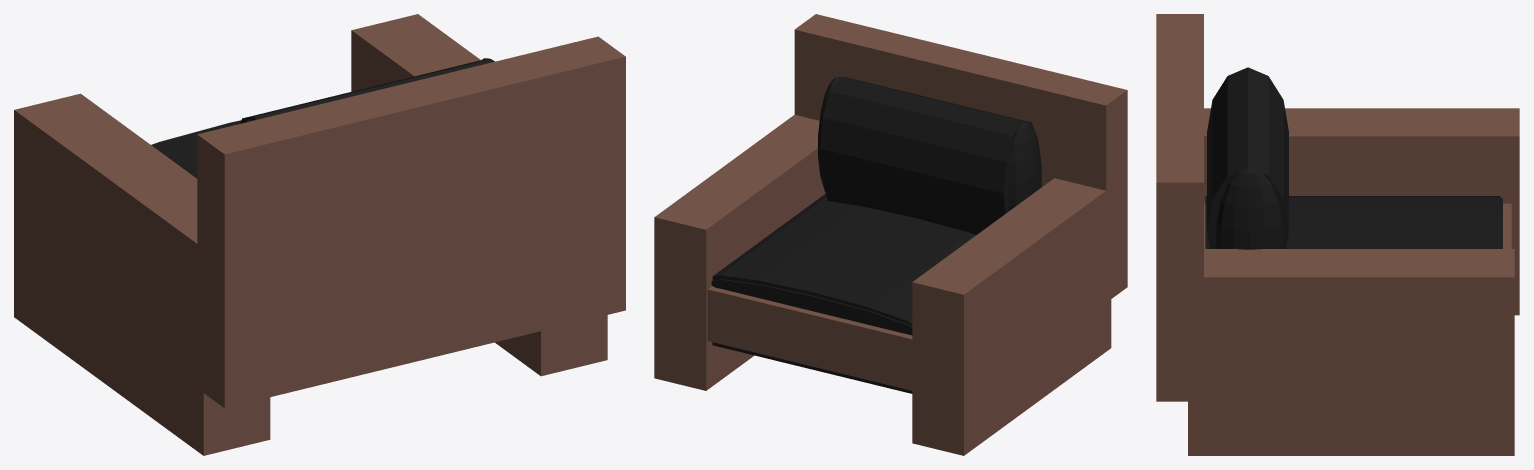
The model's file is fauteuill1.fbx.
3 views of the same model, side by side, from view 1: azimuth 30°, elevation 25°; view 2: azimuth 150°, elevation 25°; view 3: azimuth 270°, elevation 25° (orthographic). The views are drawn at different scales.
Visible parts, largest first — view 1: mesh_1178843567, mesh_1577455044, mesh_798018480, mesh_2075665351, mesh_1064078143; view 2: mesh_1577455044, mesh_1178843567, mesh_2075665351, mesh_798018480, mesh_1064078143, mesh_85747106, mesh_1582750688, mesh_1018341212, mesh_759153516; view 3: mesh_798018480, mesh_1577455044, mesh_1178843567, mesh_1064078143, mesh_2075665351, mesh_971623209, mesh_85747106.
Part boxes in pixels (bbox=[...]): mesh_1178843567: bbox=[197, 36, 625, 408]; mesh_1577455044: bbox=[14, 93, 270, 455]; mesh_798018480: bbox=[351, 14, 607, 376]; mesh_2075665351: bbox=[240, 59, 491, 123]; mesh_1064078143: bbox=[151, 120, 241, 178]; mesh_1577455044: bbox=[912, 178, 1111, 455]; mesh_1178843567: bbox=[794, 14, 1127, 298]; mesh_2075665351: bbox=[820, 76, 1038, 234]; mesh_798018480: bbox=[654, 114, 825, 390]; mesh_1064078143: bbox=[712, 193, 976, 325]; mesh_85747106: bbox=[707, 286, 912, 390]; mesh_1582750688: bbox=[711, 279, 912, 335]; mesh_1018341212: bbox=[1008, 122, 1041, 211]; mesh_759153516: bbox=[712, 342, 912, 393]; mesh_798018480: bbox=[1188, 249, 1514, 455]; mesh_1577455044: bbox=[1204, 108, 1519, 315]; mesh_1178843567: bbox=[1156, 14, 1203, 401]; mesh_1064078143: bbox=[1205, 196, 1500, 248]; mesh_2075665351: bbox=[1207, 67, 1288, 248]; mesh_971623209: bbox=[1216, 167, 1282, 249]; mesh_85747106: bbox=[1204, 203, 1511, 248].
Bounding box in the file's own units: 253 × 200 × 230.
